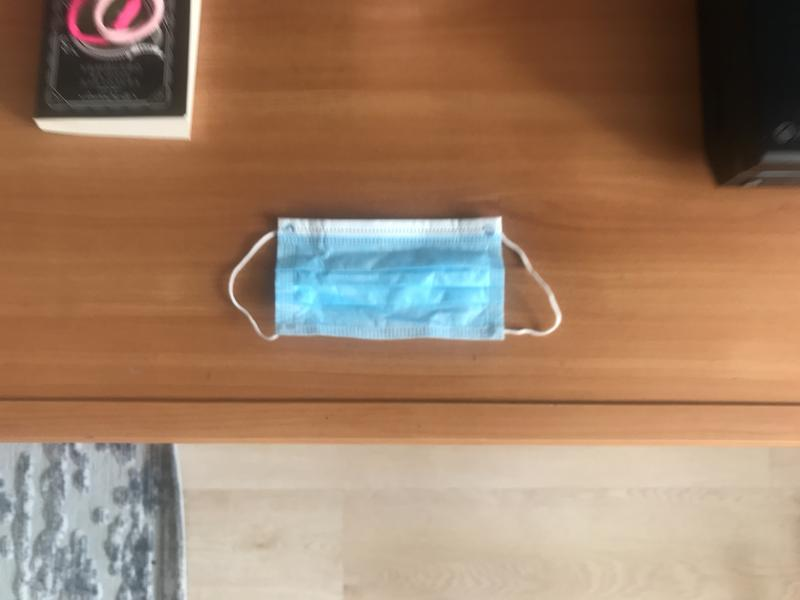medical_mask: (231, 216, 561, 343)
